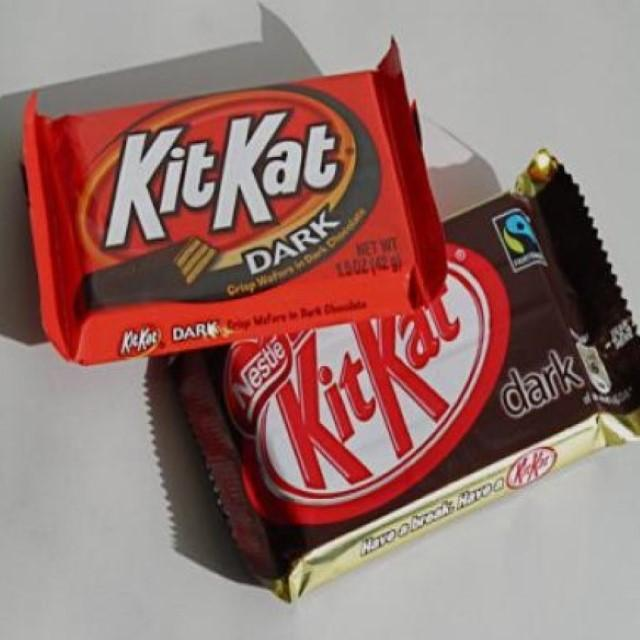kitkat_chocolate: (242, 197, 608, 568), (71, 97, 412, 310)
